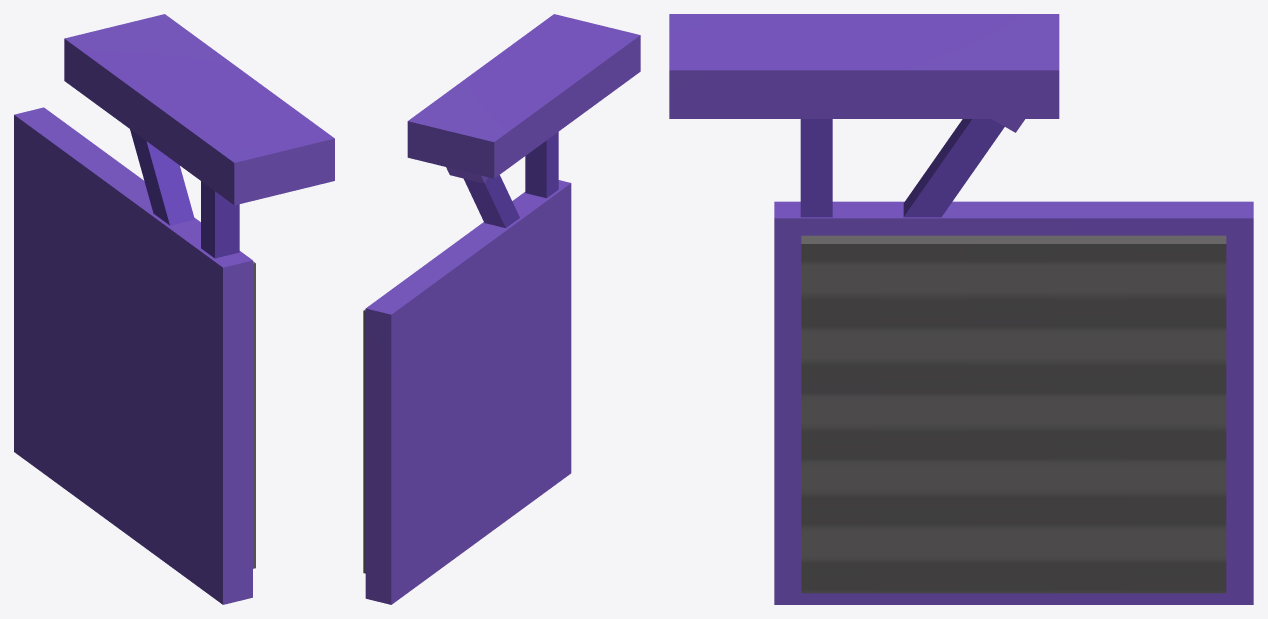
Rendered from SignProp_1_C_2.fbx.
The picture shows the model from 3 angles, left to right: view 1: azimuth 30°, elevation 25°; view 2: azimuth 150°, elevation 25°; view 3: azimuth 270°, elevation 25°; orthographic projection. The views are drawn at different scales.
Visible parts, largest first — view 1: SignProp_1_C_2; view 2: SignProp_1_C_2; view 3: SignProp_1_C_2.
Part boxes in pixels (left/top/right/bottom): SignProp_1_C_2: left=14, top=14, right=334, bottom=604; SignProp_1_C_2: left=363, top=14, right=640, bottom=604; SignProp_1_C_2: left=669, top=14, right=1253, bottom=604.
Bounding box in the file's own units: 20.79 × 95.68 × 91.36.
